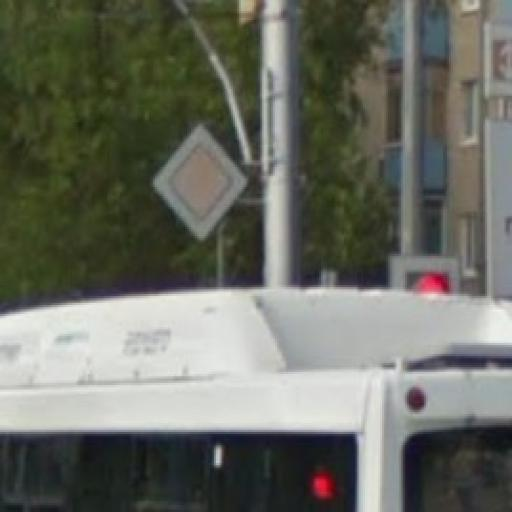traffic_sign: (152, 123, 247, 246)
